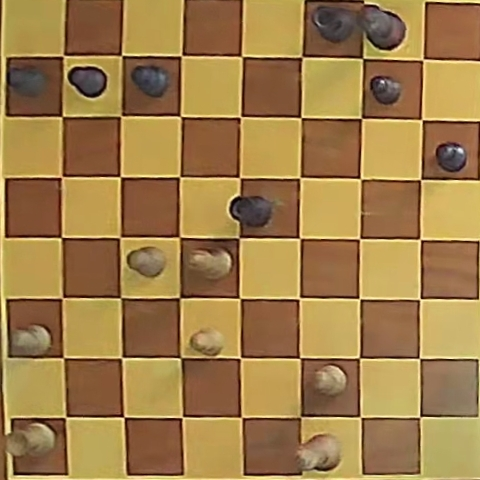black-king: (359, 5, 405, 50)
black-pawn: (8, 66, 47, 98), (68, 66, 107, 98), (131, 65, 169, 97), (435, 142, 467, 172), (370, 76, 402, 105)
black-rook: (312, 5, 357, 43), (229, 196, 277, 228)
white-bishop: (188, 246, 233, 279)
white-pawn: (11, 325, 52, 356), (127, 246, 166, 277), (314, 365, 347, 396), (189, 328, 224, 356)
white-rook: (7, 422, 57, 458), (297, 434, 341, 471)
